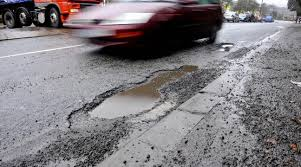pothole: (55, 61, 219, 113)
